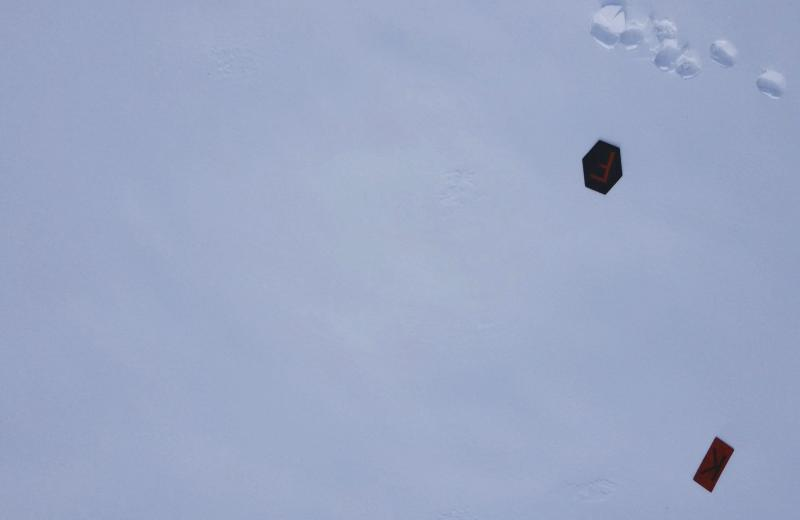Hexagon: (582, 141, 623, 194)
Rectangle: (691, 434, 738, 494)
